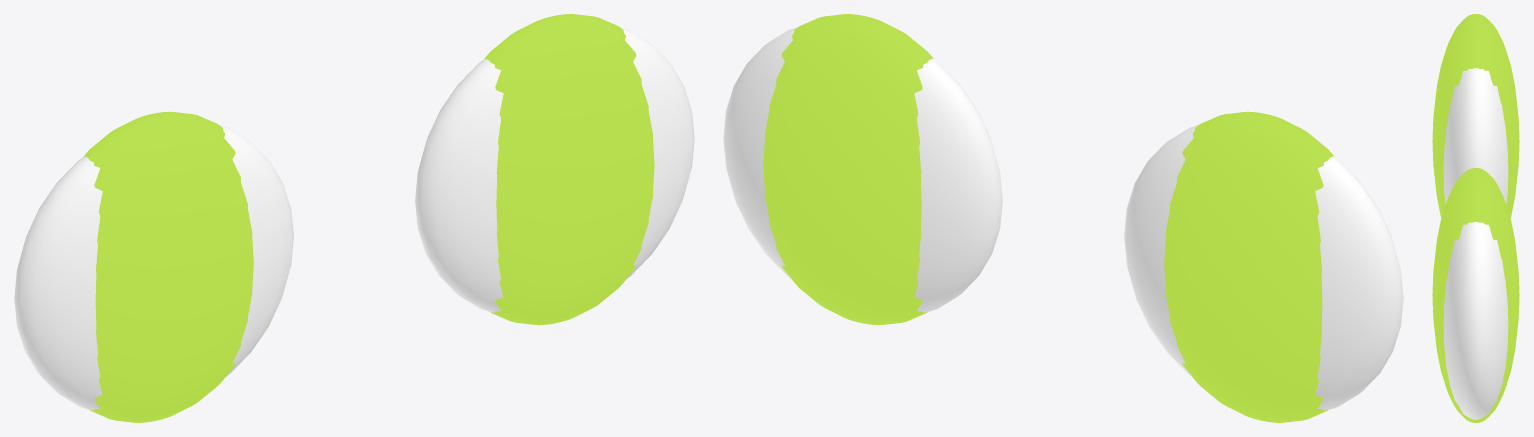
The model's file is trait-eyes-green-round-eye.glb.
3 renders of one model, left to right at view 1: azimuth 30°, elevation 25°; view 2: azimuth 150°, elevation 25°; view 3: azimuth 270°, elevation 25°, orthographic. The views are drawn at different scales.
Parts seen in each view (by area): view 1: trait_eye_L, trait_eye_R, trait_eye_ring_R, trait_eye_ring_L; view 2: trait_eye_L, trait_eye_R, trait_eye_ring_R, trait_eye_ring_L; view 3: trait_eye_ring_R, trait_eye_R, trait_eye_L, trait_eye_ring_L.
Boxes of the visible parts, left/top/right/bottom form: trait_eye_L: left=83, top=111, right=253, bottom=422; trait_eye_R: left=484, top=14, right=654, bottom=325; trait_eye_ring_R: left=415, top=27, right=694, bottom=312; trait_eye_ring_L: left=14, top=125, right=293, bottom=410; trait_eye_L: left=1164, top=111, right=1334, bottom=422; trait_eye_R: left=763, top=14, right=933, bottom=325; trait_eye_ring_R: left=723, top=27, right=1002, bottom=312; trait_eye_ring_L: left=1124, top=125, right=1403, bottom=410; trait_eye_ring_R: left=1443, top=222, right=1508, bottom=419; trait_eye_R: left=1432, top=168, right=1519, bottom=422; trait_eye_L: left=1432, top=14, right=1519, bottom=217; trait_eye_ring_L: left=1443, top=68, right=1508, bottom=204.
Size of the model in its own units: 0.7739 by 0.3326 by 0.11.
